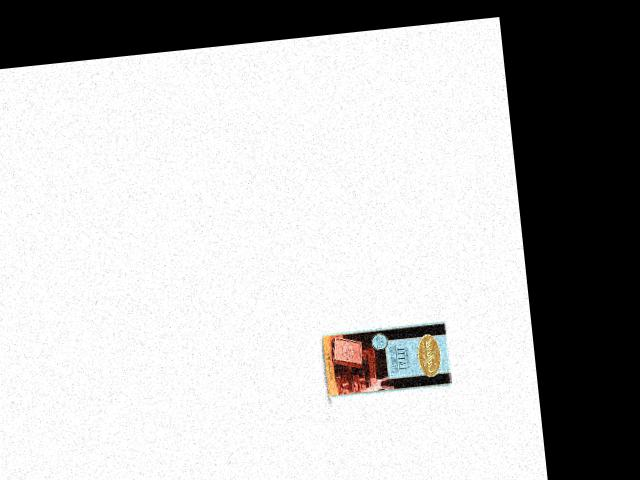chocolate: (320, 320, 453, 401)
